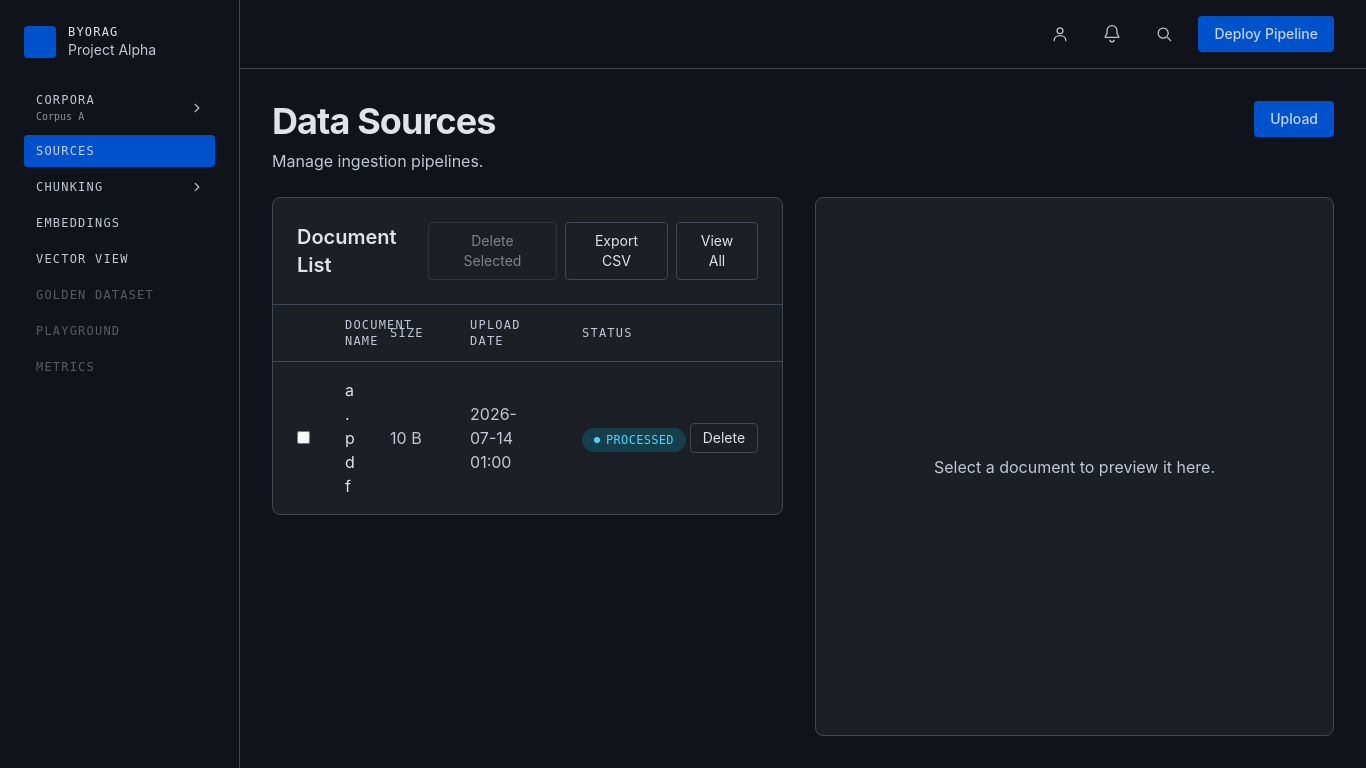
Test case: Cross-section scoping from the Corpora screen (009-corpora-screen US2) › switching the active corpus from the Corpora screen immediately updates Sources, no reload
Click the text "CORPORA".
click(66, 100)  # box [36,92,95,108]
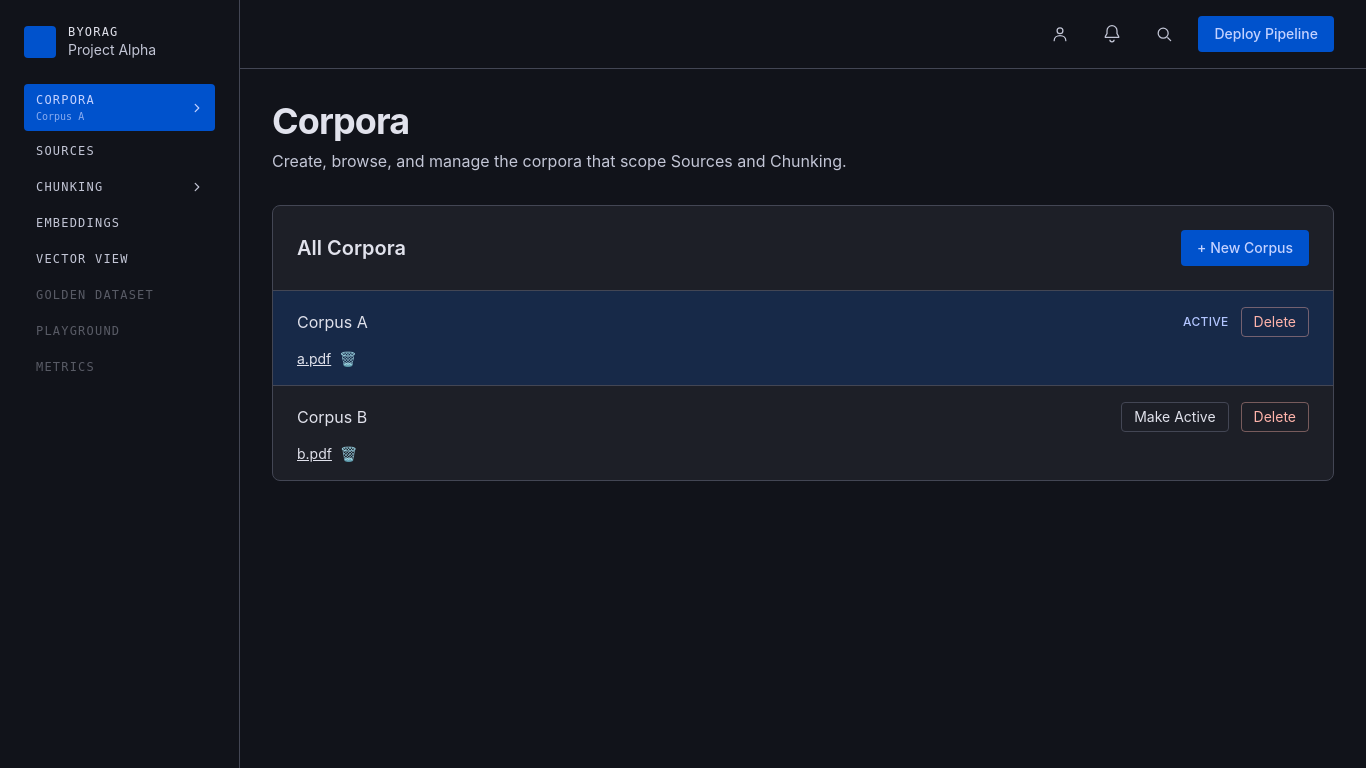
Expected: the list item with test id "corpus-row-corpus-b" is shown, [273,386,1333,480]
Click the button with aria-label "make corpus b active".
click(1175, 417)  # box [1121,402,1229,432]
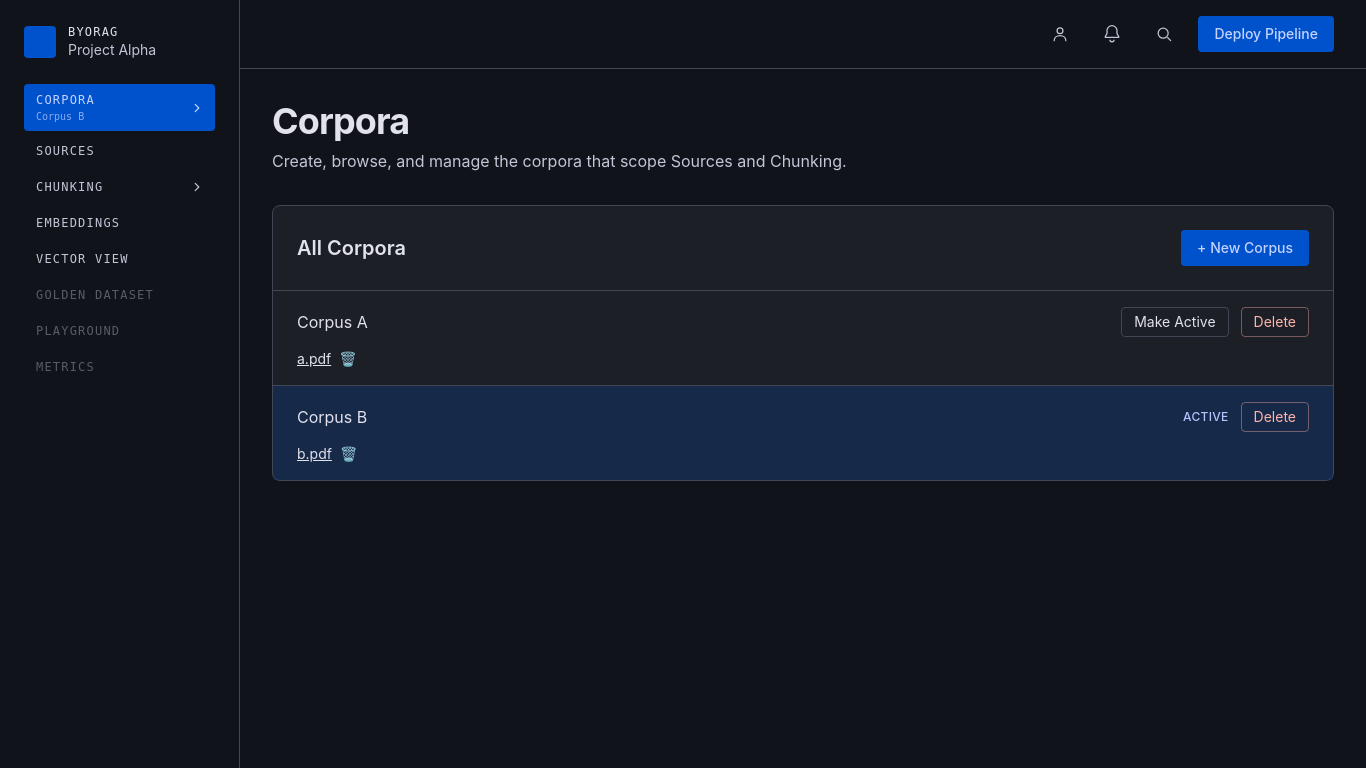
Click the link "SOURCES".
click(66, 151)  # box [36,144,95,158]
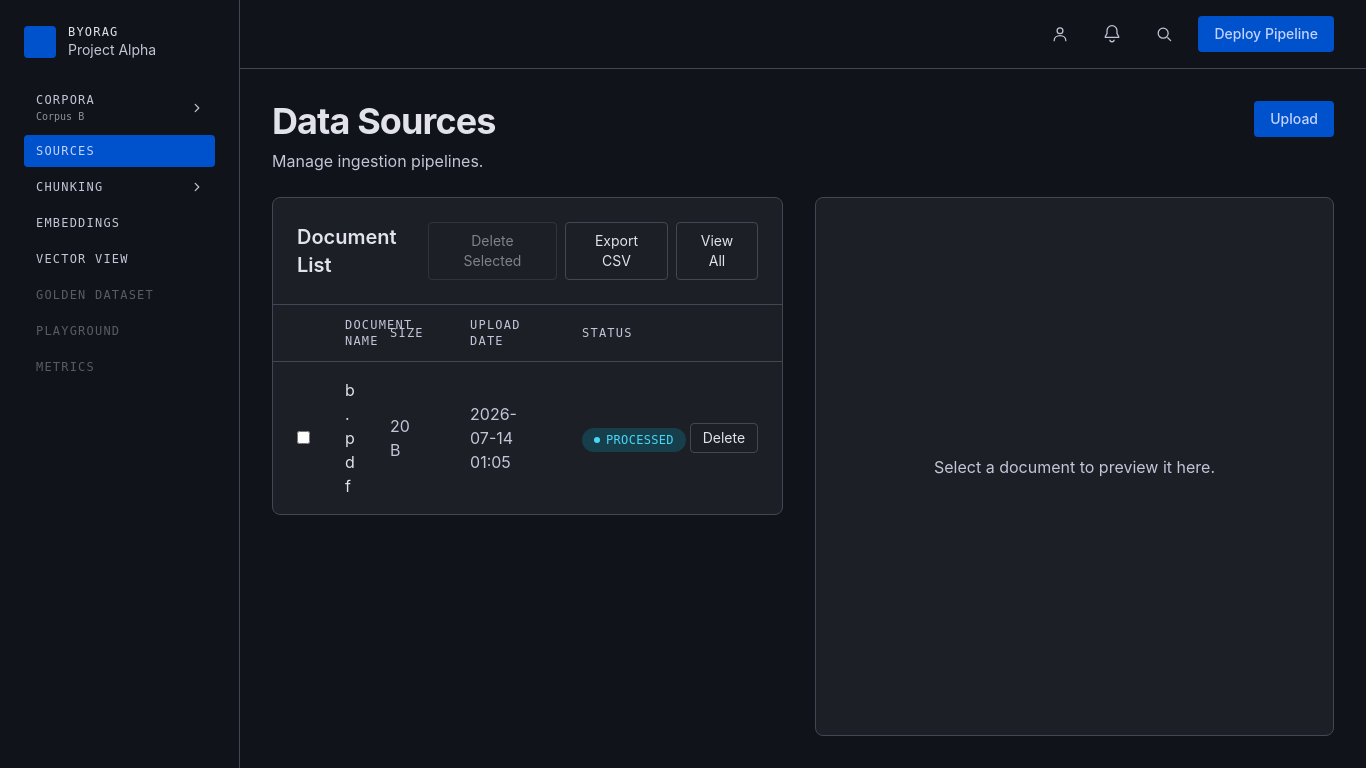
Expected: the link "a.pdf" is gone
